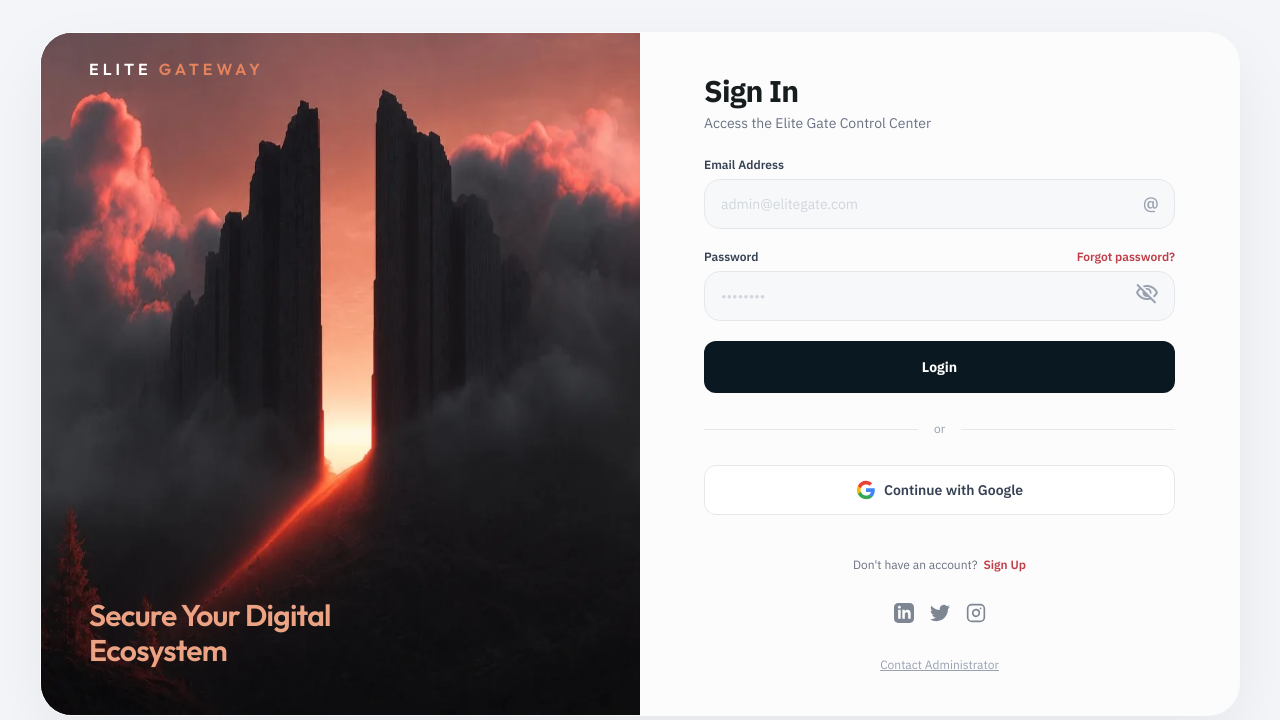
Scenario: LoginPage Glassmorphism UI & Form Functionality › handles EMAIL_NOT_VERIFIED 403 response cleanly without authenticating user
The image size is (1280, 720).
Type "unverified@example.com" into the field labelled "Email Address" at {"x": 940, "y": 204}, box [704,179,1175,229]
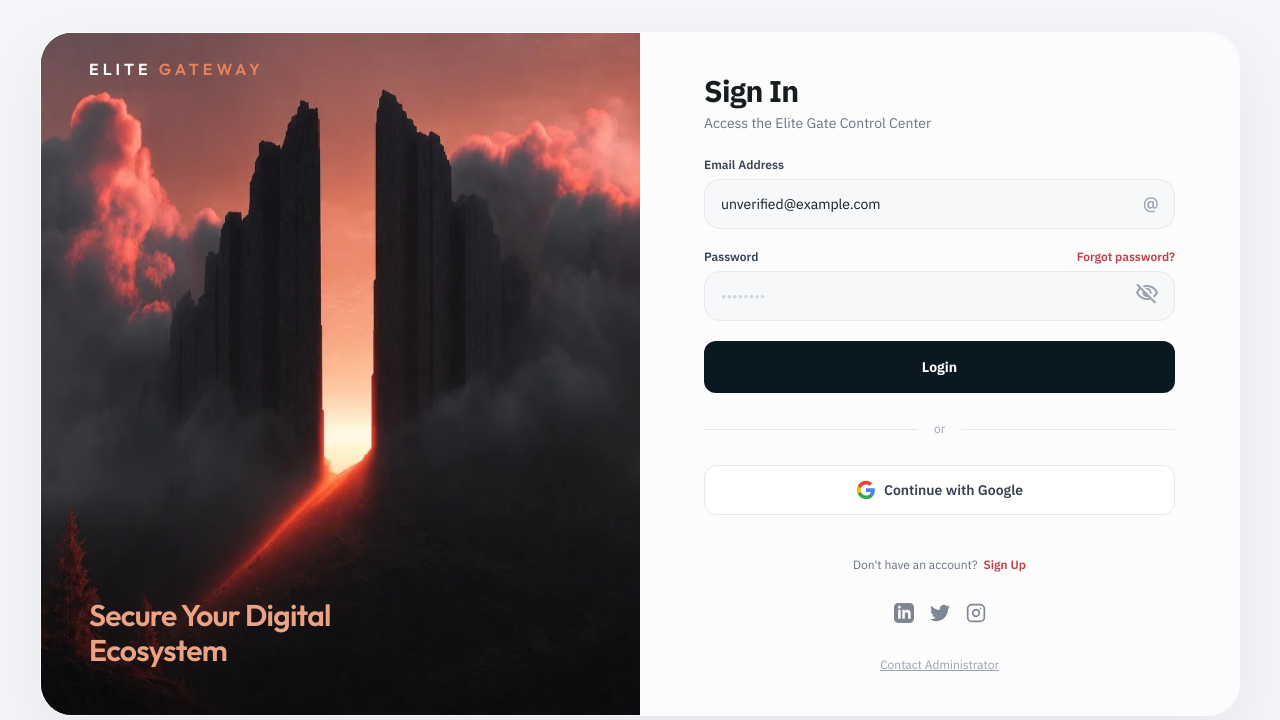
Type "Password123!" into the password field labelled "Password" at {"x": 940, "y": 296}, box [704,271,1175,321]
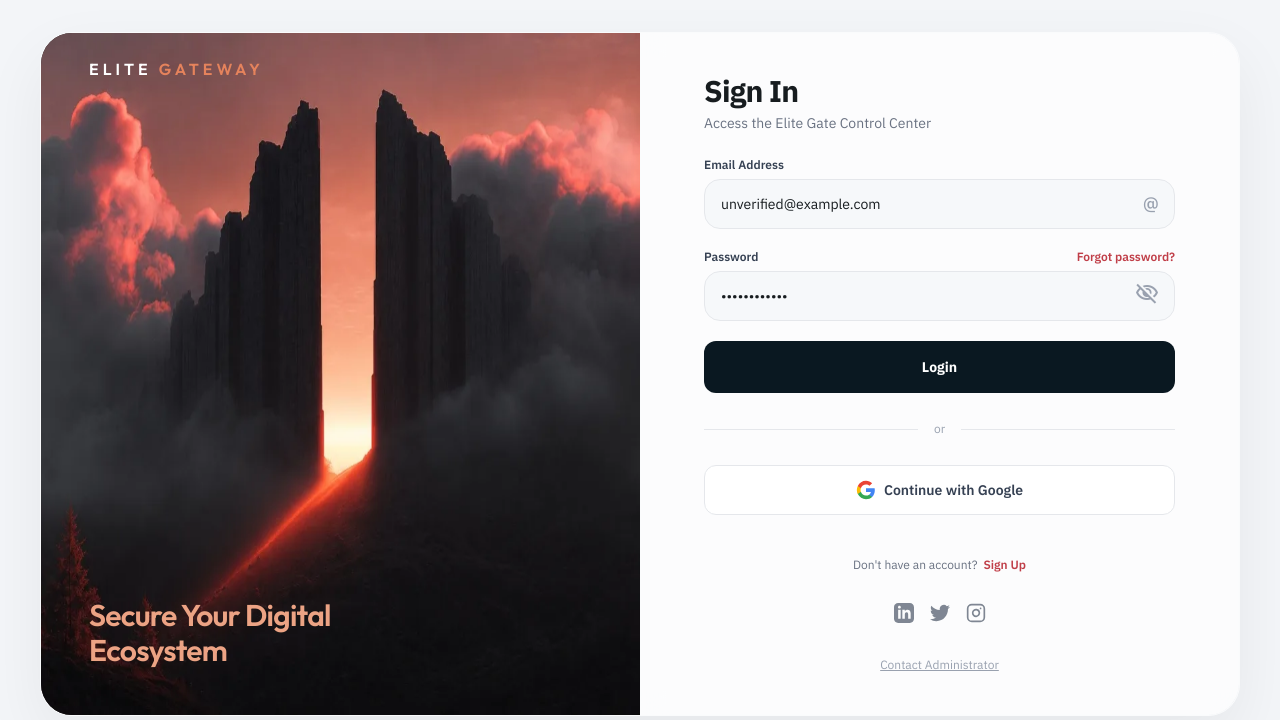
Click the button "Login" at {"x": 940, "y": 367}, box [704,341,1175,393]
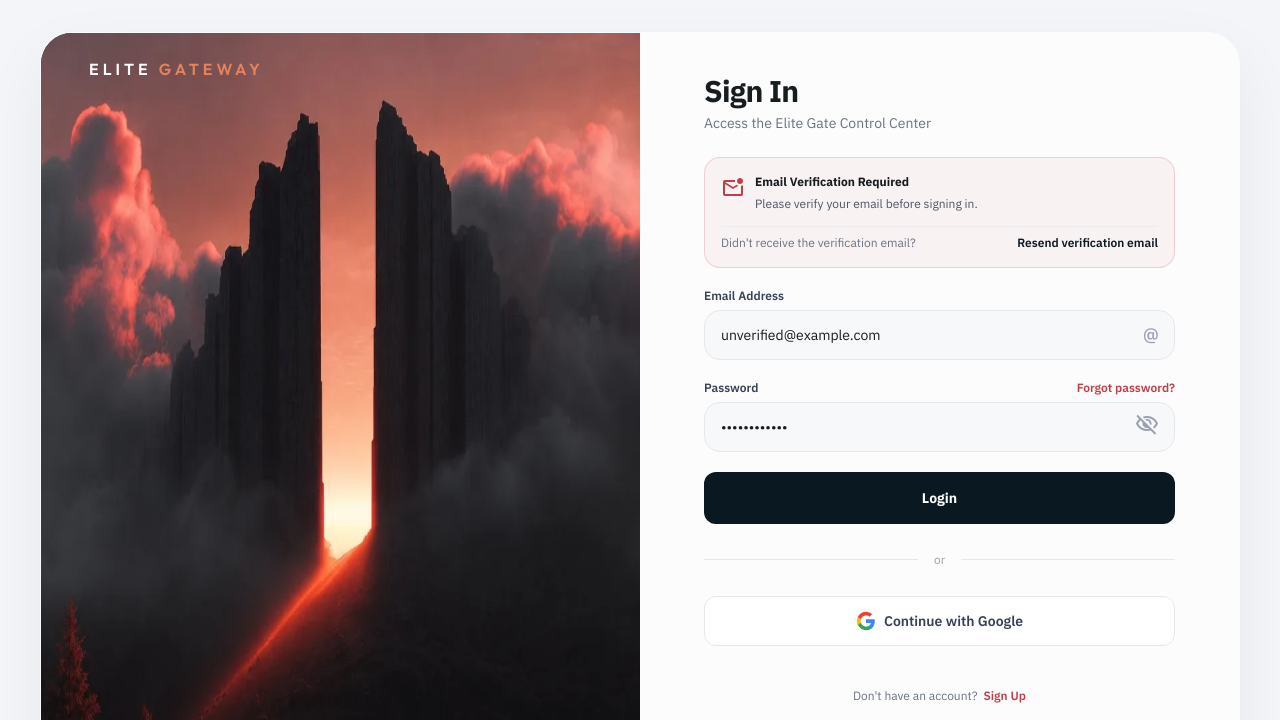
Expected: the text "Email Verification Required" is shown, [755,174,909,189]
Expected: the text "Please verify your email before signing in." is shown, [755,194,978,214]
Expected: the button "Resend verification email" is shown, [1017,234,1158,250]
